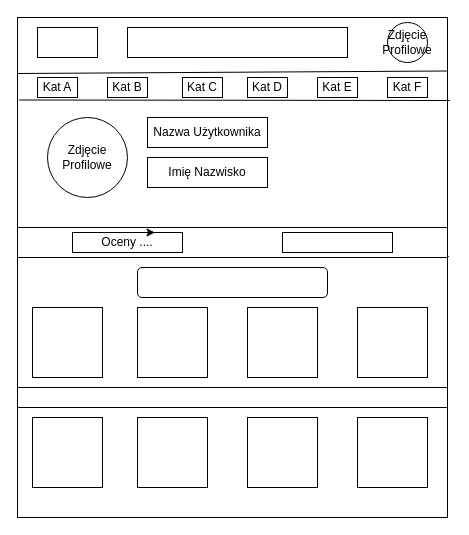
Image size: 469x535. Some labels were removed from this diagram. The centre of each missing label's shape, as x and y in pixels:
Logo: pixel 67 42
Ostatnio ocenione: pixel 232 282
Rekomendacje: pixel 232 397
Ulubione ...: pixel 337 242
Wyszukaj: pixel 237 42
